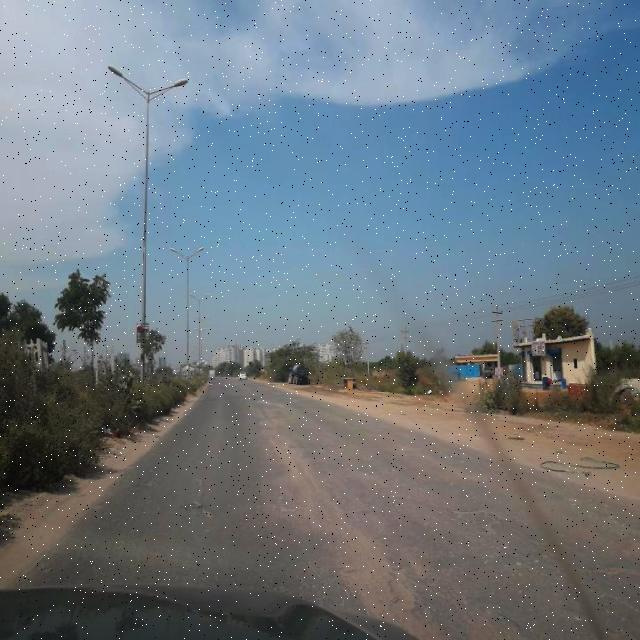D40: (262, 418, 356, 535), (454, 491, 512, 545), (581, 552, 639, 605), (375, 553, 421, 605), (180, 498, 216, 517)
